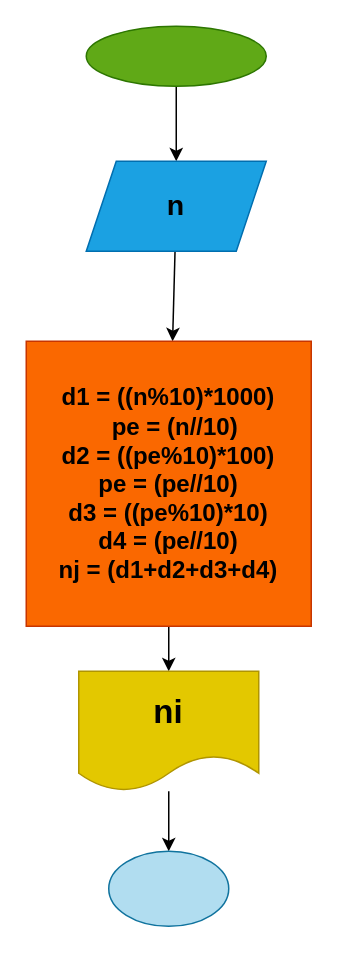
This 338x953 diagram has some shape labels left out. The shapes that lost their labels are listed below. From the top down, each one's box as (x1, y1, x2, y2) in pixels, then its label:
(85, 25, 266, 86): INICIO
(107, 850, 229, 926): FIN
